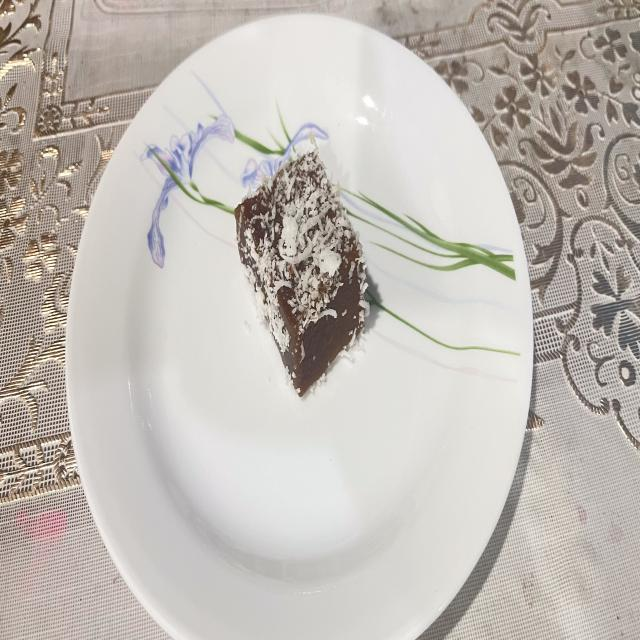kaswi: (235, 147, 369, 396)
